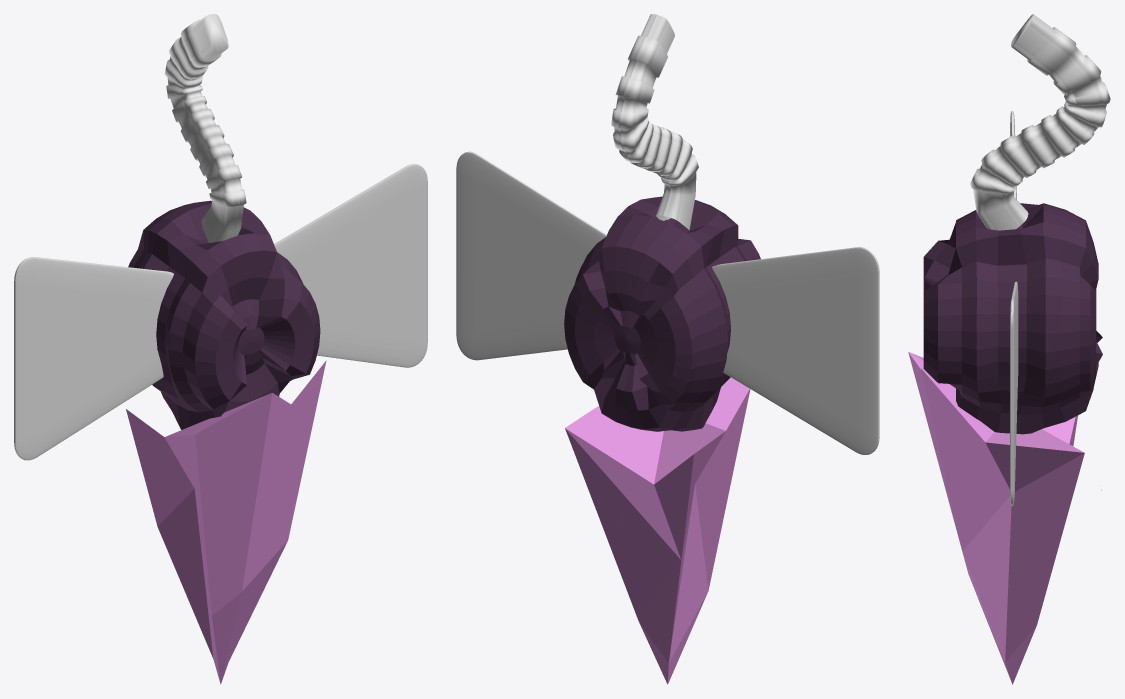
The model's file is Enemy.fbx.
The picture shows the model from 3 angles, left to right: view 1: azimuth 30°, elevation 25°; view 2: azimuth 150°, elevation 25°; view 3: azimuth 270°, elevation 25°; orthographic projection. The views are drawn at different scales.
Visible parts, largest first — view 1: Head, Body, Wing.001, Wing, Tall1; view 2: Body, Head, Wing.001, Wing, Tall1; view 3: Body, Head, Tall1, Wing.
Boxes of the visible parts, <box> form: Head: <box>126,360,326,684</box>; Body: <box>128,200,320,429</box>; Wing.001: <box>14,257,173,460</box>; Wing: <box>274,164,427,367</box>; Tall1: <box>164,14,246,242</box>; Body: <box>564,196,760,431</box>; Head: <box>565,377,750,684</box>; Wing.001: <box>712,247,879,454</box>; Wing: <box>456,151,606,360</box>; Tall1: <box>611,14,698,229</box>; Body: <box>923,203,1102,434</box>; Head: <box>908,352,1084,684</box>; Tall1: <box>970,14,1110,230</box>; Wing: <box>1010,281,1018,505</box>.
Bounding box in the file's own units: 534 × 820 × 225.
